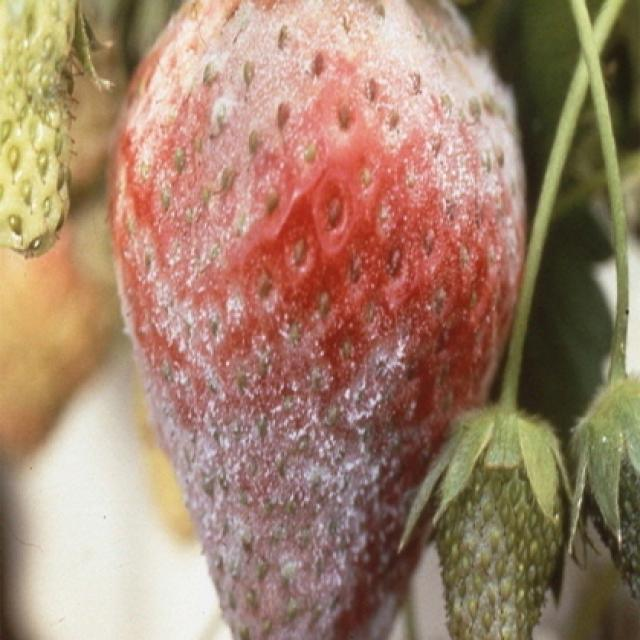Powdery Mildew Fruit: (105, 0, 528, 638), (394, 416, 566, 638)
